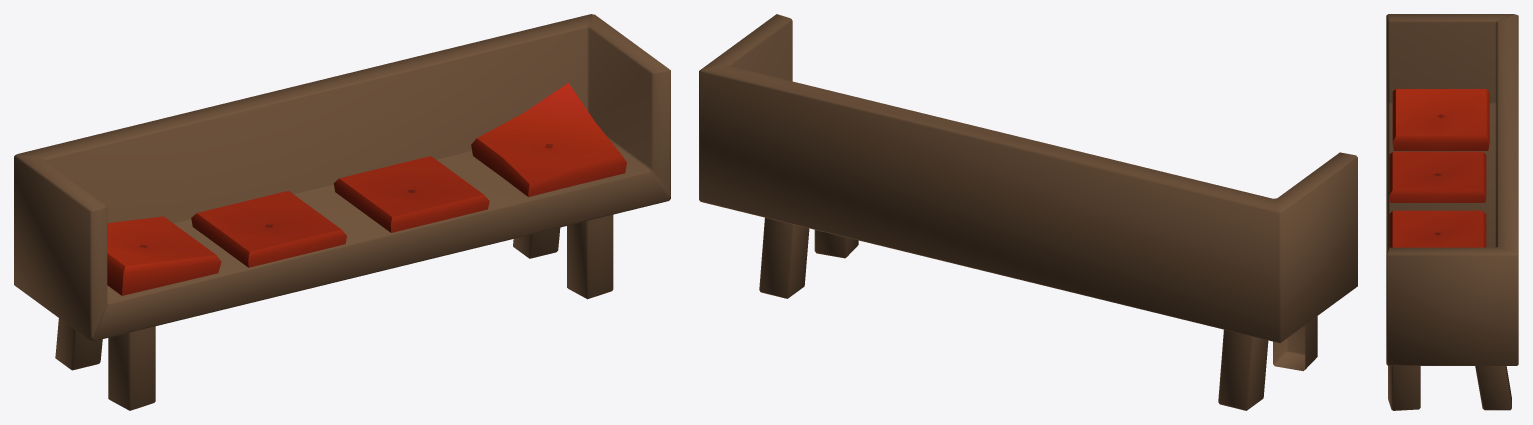
The model's file is BenchChair_3.fbx.
3 renders of one model, left to right at view 1: azimuth 30°, elevation 25°; view 2: azimuth 150°, elevation 25°; view 3: azimuth 270°, elevation 25°, orthographic. The views are drawn at different scales.
Parts seen in each view (by area): view 1: BenchChair_3; view 2: BenchChair_3; view 3: BenchChair_3.
Part boxes in pixels (x1,y1,x2,y2): BenchChair_3: (14,14,670,410); BenchChair_3: (699,14,1357,410); BenchChair_3: (1386,14,1518,410).
Size of the model in its own units: 176 by 61.12 by 40.78.
